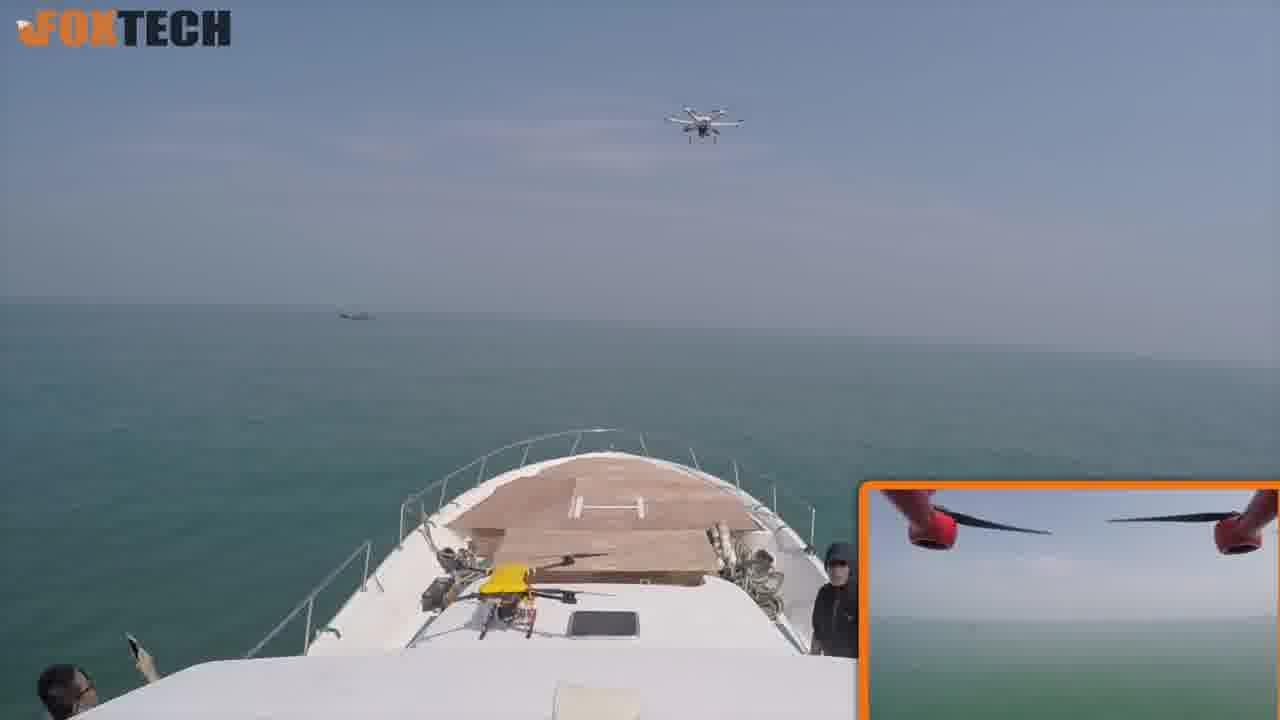drone: (639, 89, 763, 153)
